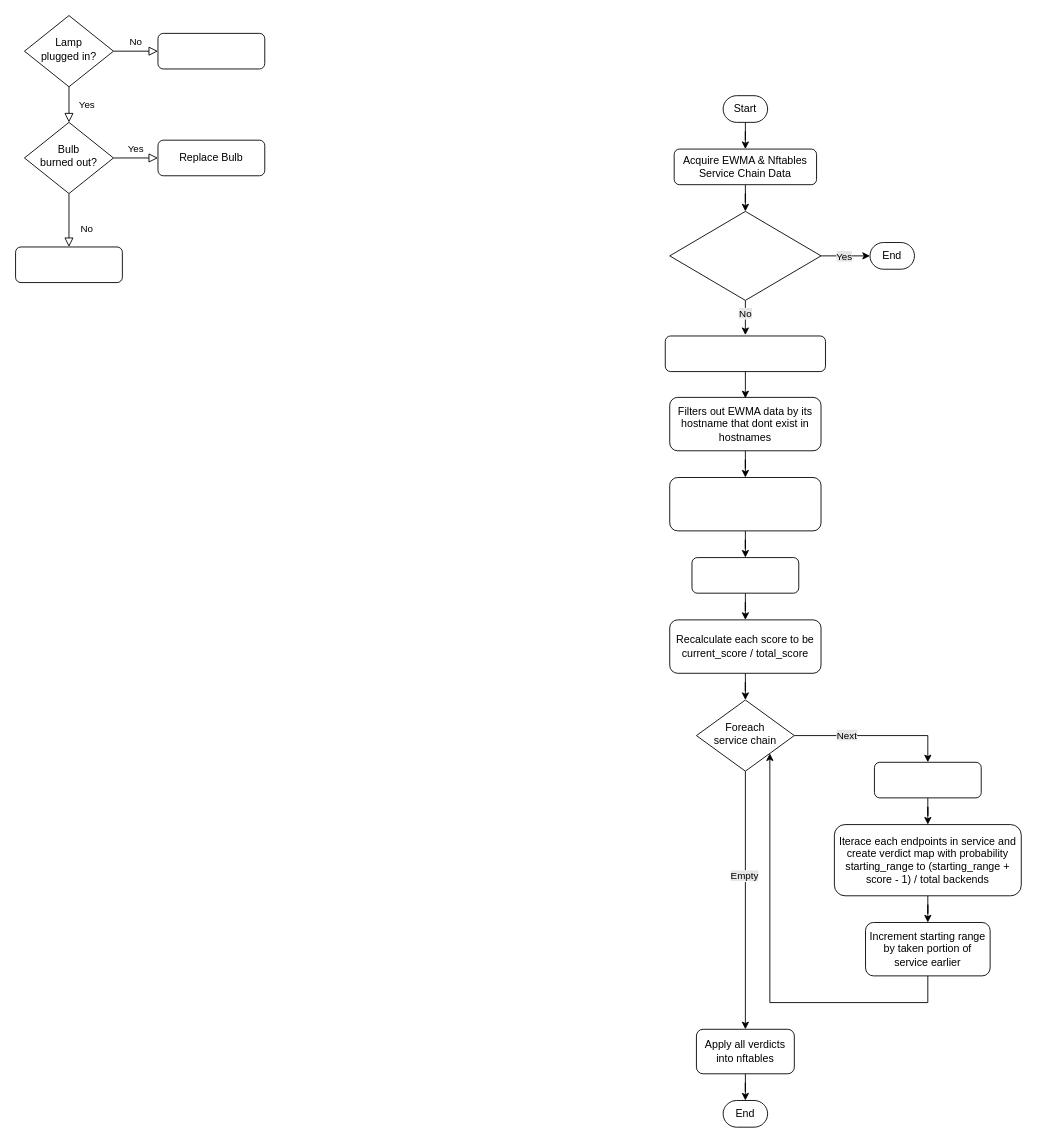
Image size: 1037x1143. Some labels were removed from this diagram. Here are the shapes that lost their labels. From the top down, the centre of each, then its label:
At (x=211, y=50): "Plug in lamp".
At (x=68, y=264): "Repair Lamp".
At (x=745, y=255): "Is there only one service chain and the endpoints < 3?".
At (x=744, y=353): "Collect all hostnames from services endpoints".
At (x=745, y=504): "Sum each EWMA score of CPU and Latency by its hostname and store in map".
At (x=745, y=575): "Sum total score combined".
At (x=927, y=779): "Get starting_range".
